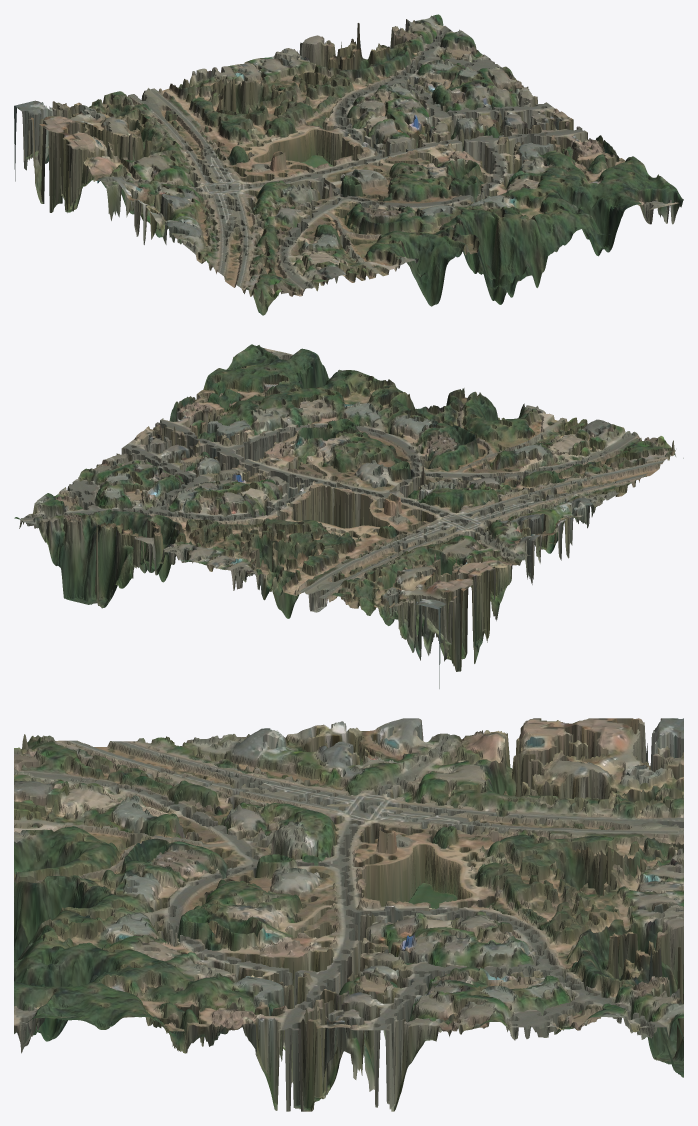
The model's file is before (1).glb.
3 views of the same model, one above another, from view 1: azimuth 30°, elevation 25°; view 2: azimuth 150°, elevation 25°; view 3: azimuth 270°, elevation 25° (orthographic). The views are drawn at different scales.
Parts seen in each view (by area): view 1: geometry_0; view 2: geometry_0; view 3: geometry_0.
Part boxes in pixels (box(x1,y1,x2,y2)): geometry_0: box(14, 14, 683, 315); geometry_0: box(14, 344, 683, 688); geometry_0: box(14, 718, 683, 1111).
Bounding box in the file's own units: 920 × 167 × 920.
1 material, 1 textured.
